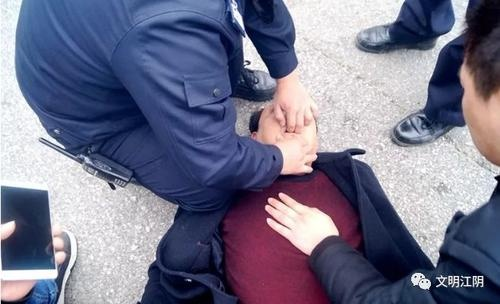falling: (52, 83, 449, 304)
